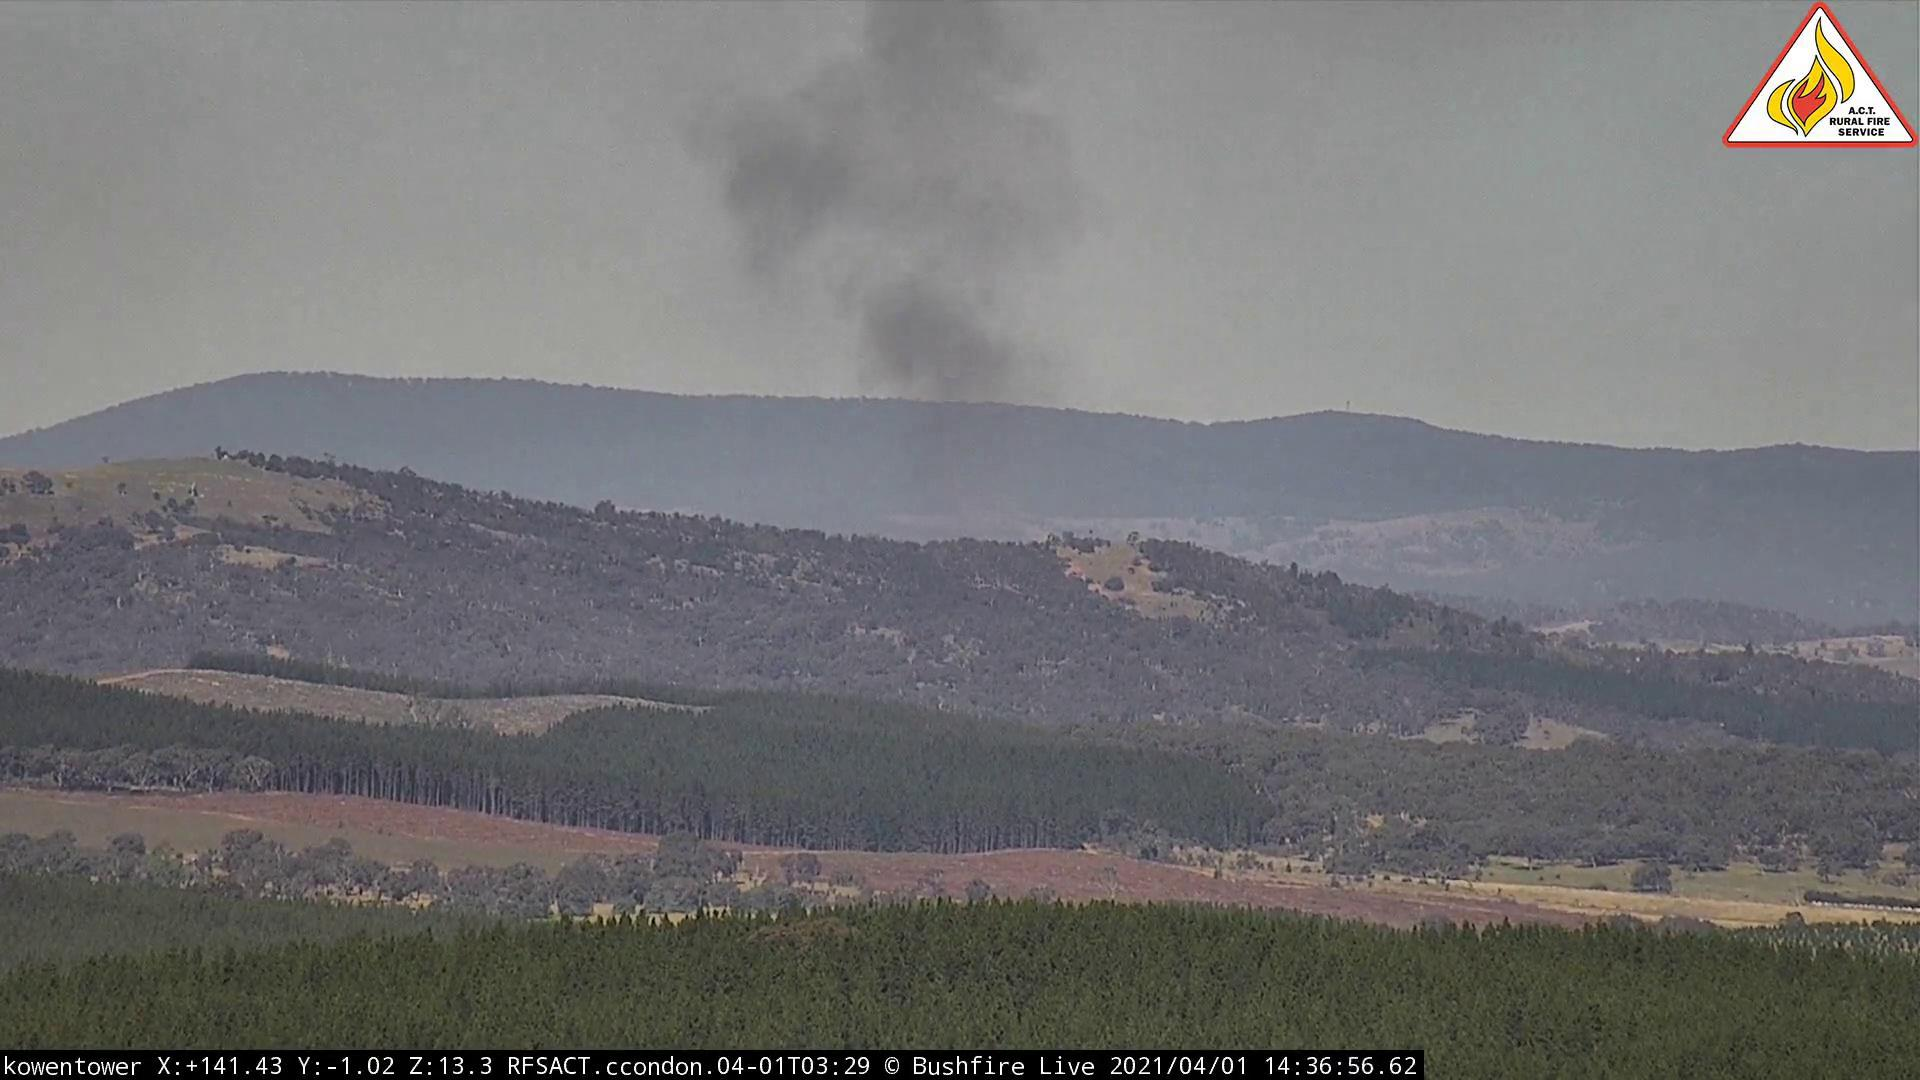Smoke: (665, 3, 1109, 546)
